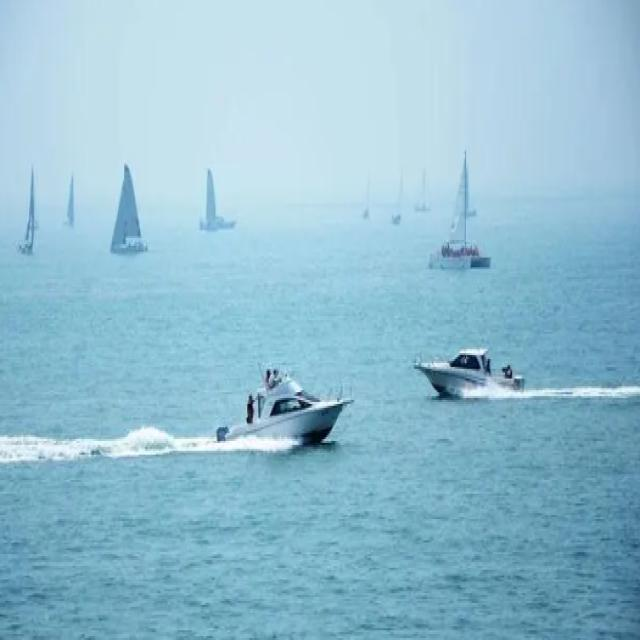houseboat: (214, 365, 353, 454), (413, 334, 526, 407)
sailboat: (426, 148, 494, 272), (105, 162, 149, 257), (194, 165, 239, 236), (16, 163, 40, 260), (358, 166, 377, 227), (62, 172, 81, 230), (390, 161, 405, 227), (416, 164, 430, 218)
